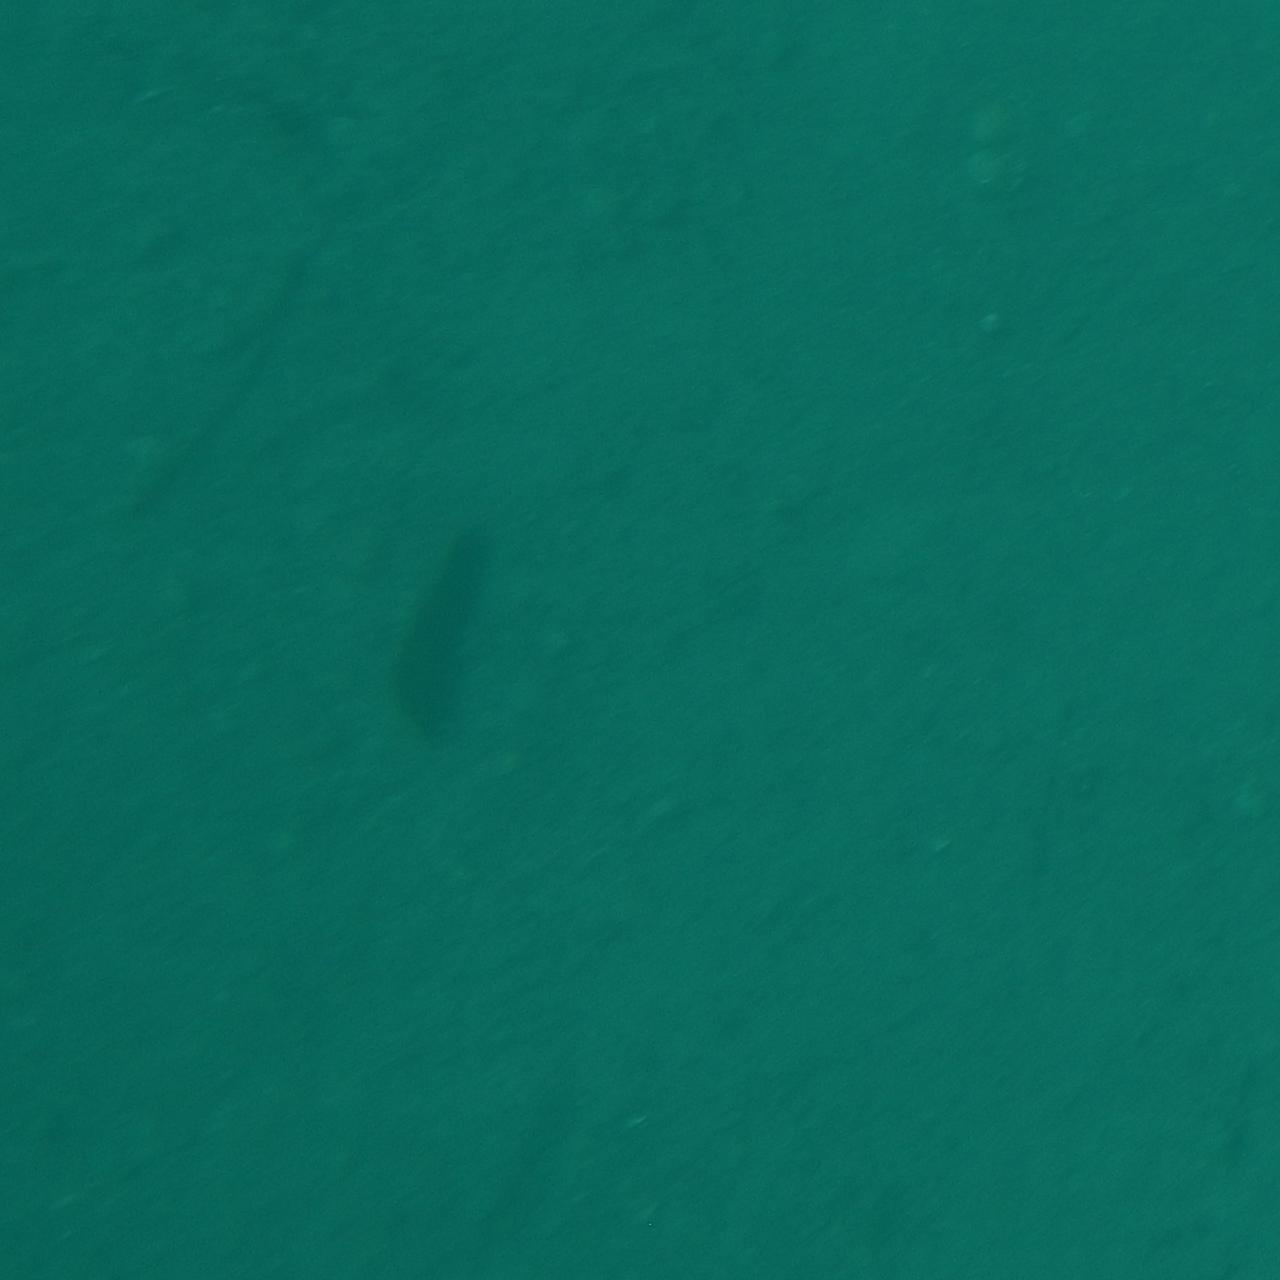Holothuria tubulosa: (366, 514, 512, 766)
